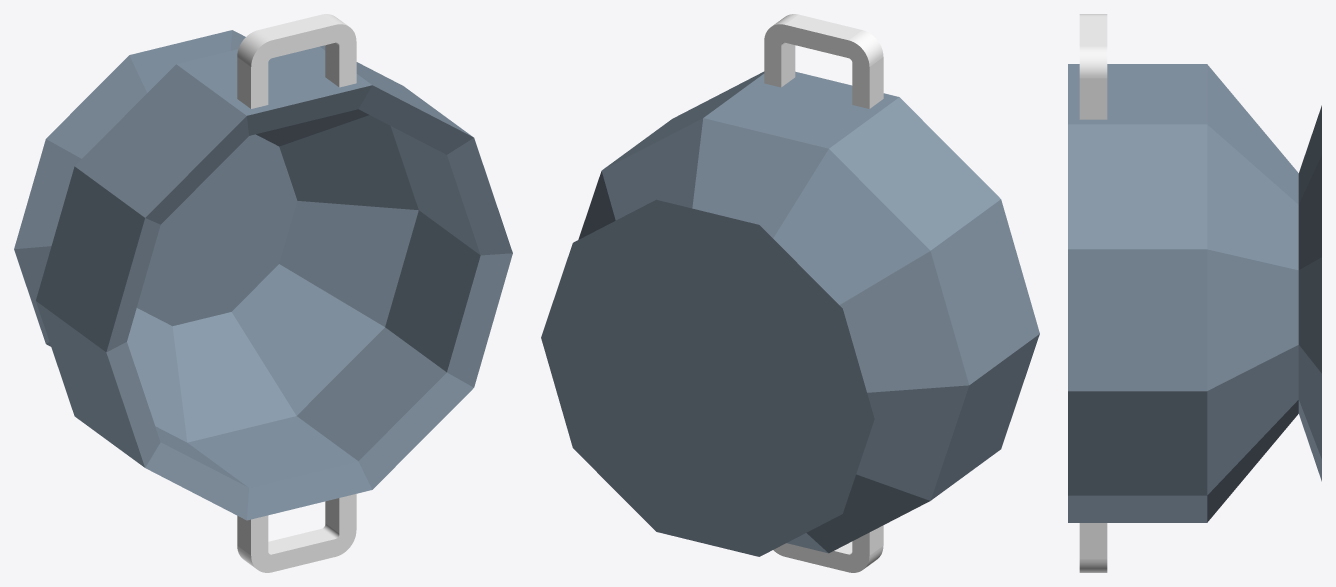
Rendered from Colander.obj.
3 views of the same model, side by side, from view 1: azimuth 30°, elevation 25°; view 2: azimuth 150°, elevation 25°; view 3: azimuth 270°, elevation 25° (orthographic).
Visible parts, largest first — view 1: pot; view 2: pot; view 3: pot.
Part boxes in pixels (<box>): pot: <box>14,14,512,572</box>; pot: <box>541,14,1039,572</box>; pot: <box>1068,14,1321,572</box>.
Size of the model in its own units: 0.3287 by 0.411 by 0.1804.
